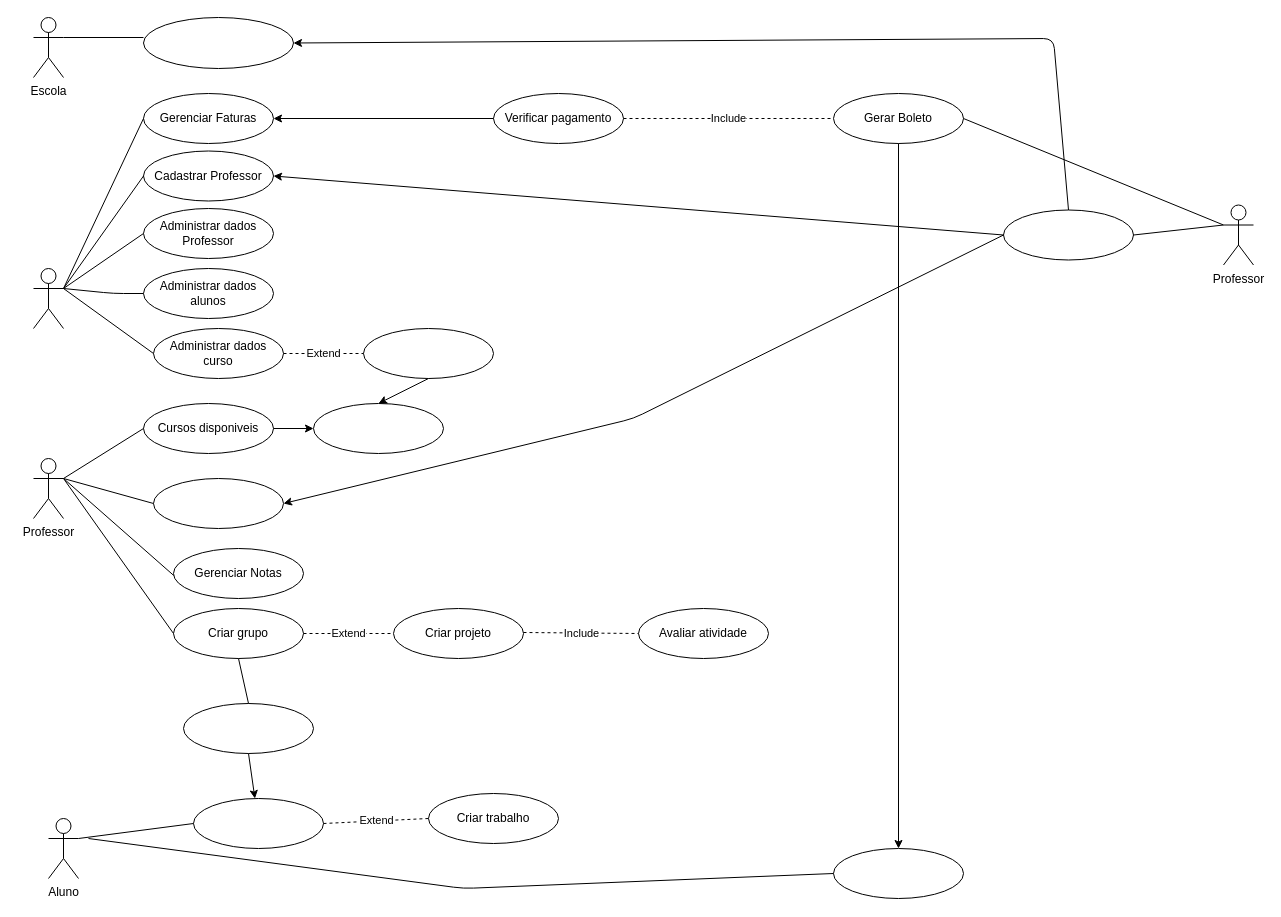
The diagram is 1281 pixels wide and 917 high, and some of its shapes have lost their labels. Here are the shapes that lost their labels. From the top down, the centre of each, then its label:
the point at 218,42: Cadastrar Financeiro/ secretaria
the point at 1068,234: Verificar dados
the point at 48,298: Financeiro/ Secretaria
the point at 428,353: Aprovar sala
the point at 378,428: Solicitar sala
the point at 218,503: Cadastrar Aluno
the point at 248,728: Adicionar alunos
the point at 258,823: Acessar grupo
the point at 898,873: Solicitar Boleto
